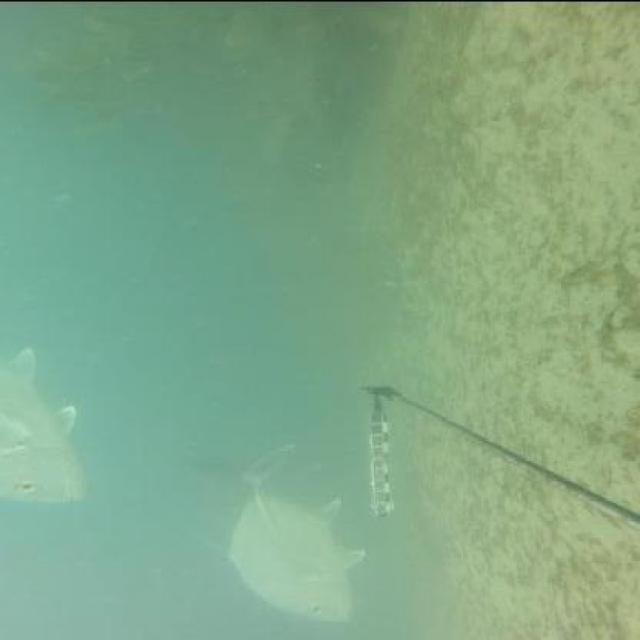Caranx: (186, 437, 372, 623), (1, 342, 90, 506)
